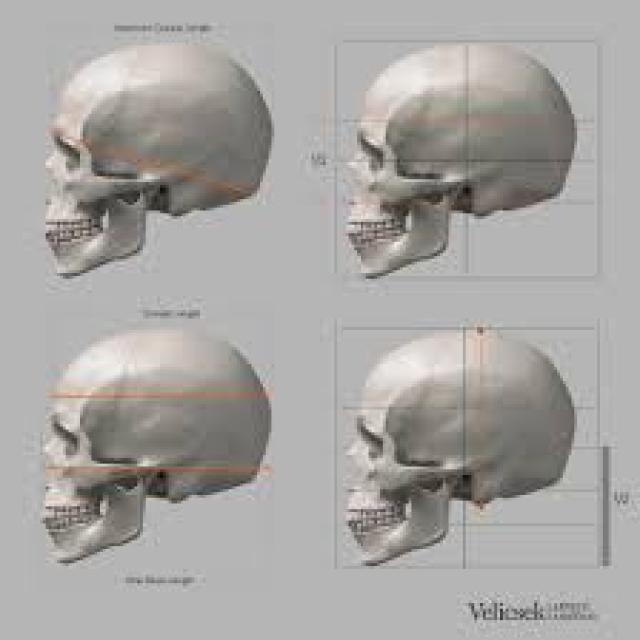skull: (37, 326, 285, 579)
